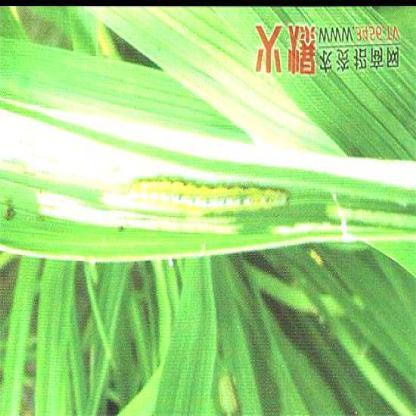leaf-folder: (119, 169, 296, 231)
